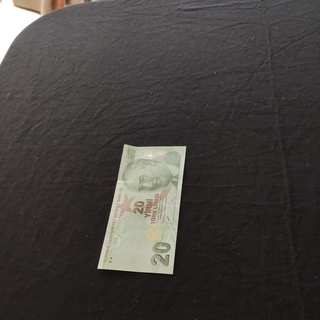20TLFront: (97, 144, 186, 274)
